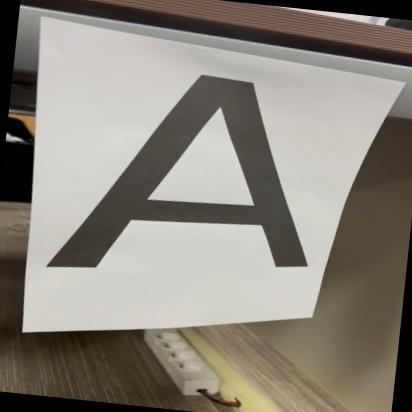seat: (36, 46, 336, 306)
